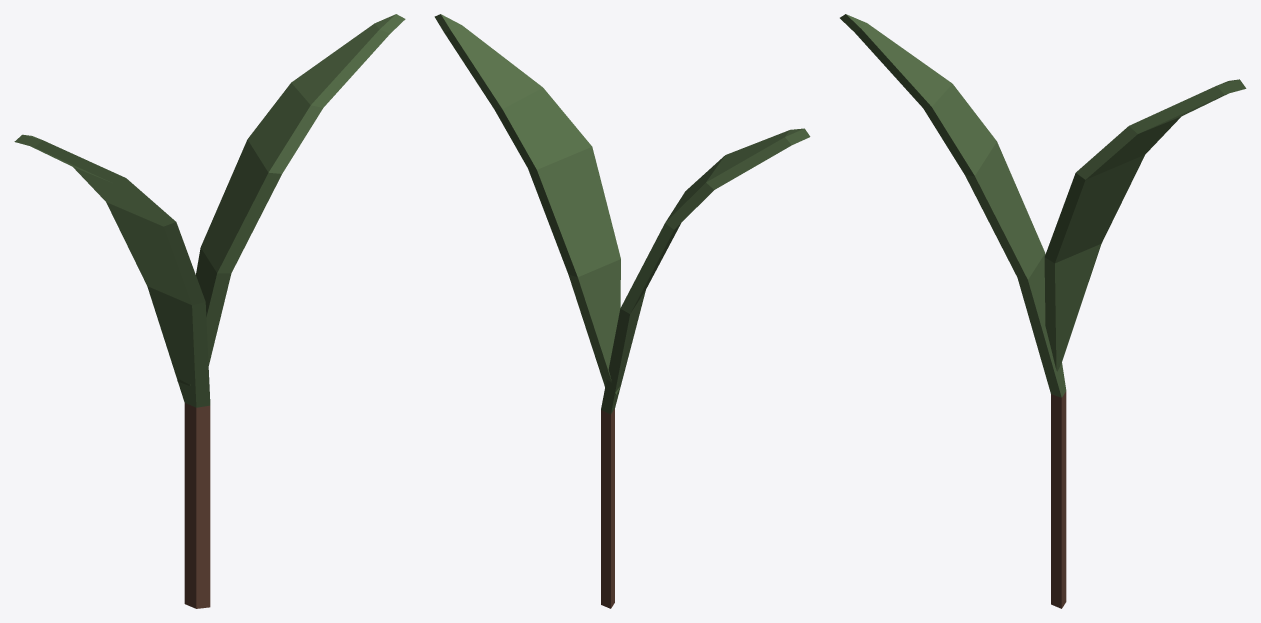
File: BushBerries_1.glb
The picture shows the model from 3 angles, left to right: view 1: azimuth 30°, elevation 25°; view 2: azimuth 150°, elevation 25°; view 3: azimuth 330°, elevation 25°; orthographic projection. The views are drawn at different scales.
Visible parts, largest first — view 1: BushBerries_1; view 2: BushBerries_1; view 3: BushBerries_1.
Boxes of the visible parts, x1,y1,x2,y2 form: BushBerries_1: (14, 14, 405, 608); BushBerries_1: (434, 14, 810, 608); BushBerries_1: (840, 14, 1246, 608).
Size of the model in its own units: 0.2595 by 0.3529 by 0.0501.
